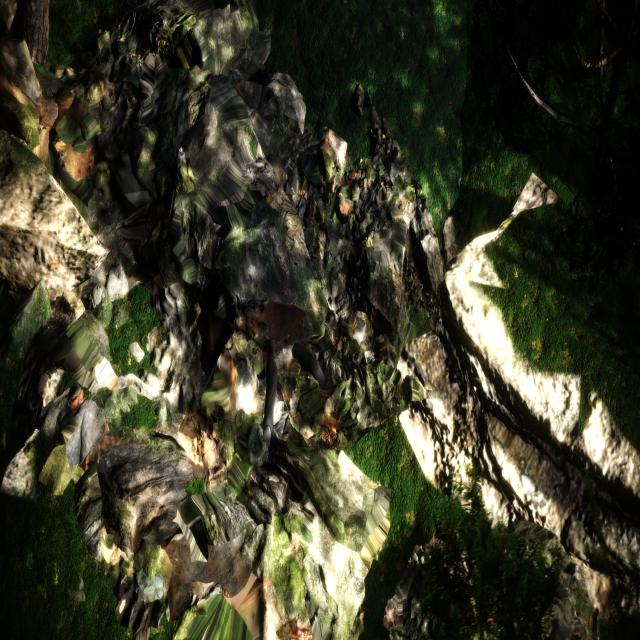Human: (258, 338, 353, 451)
